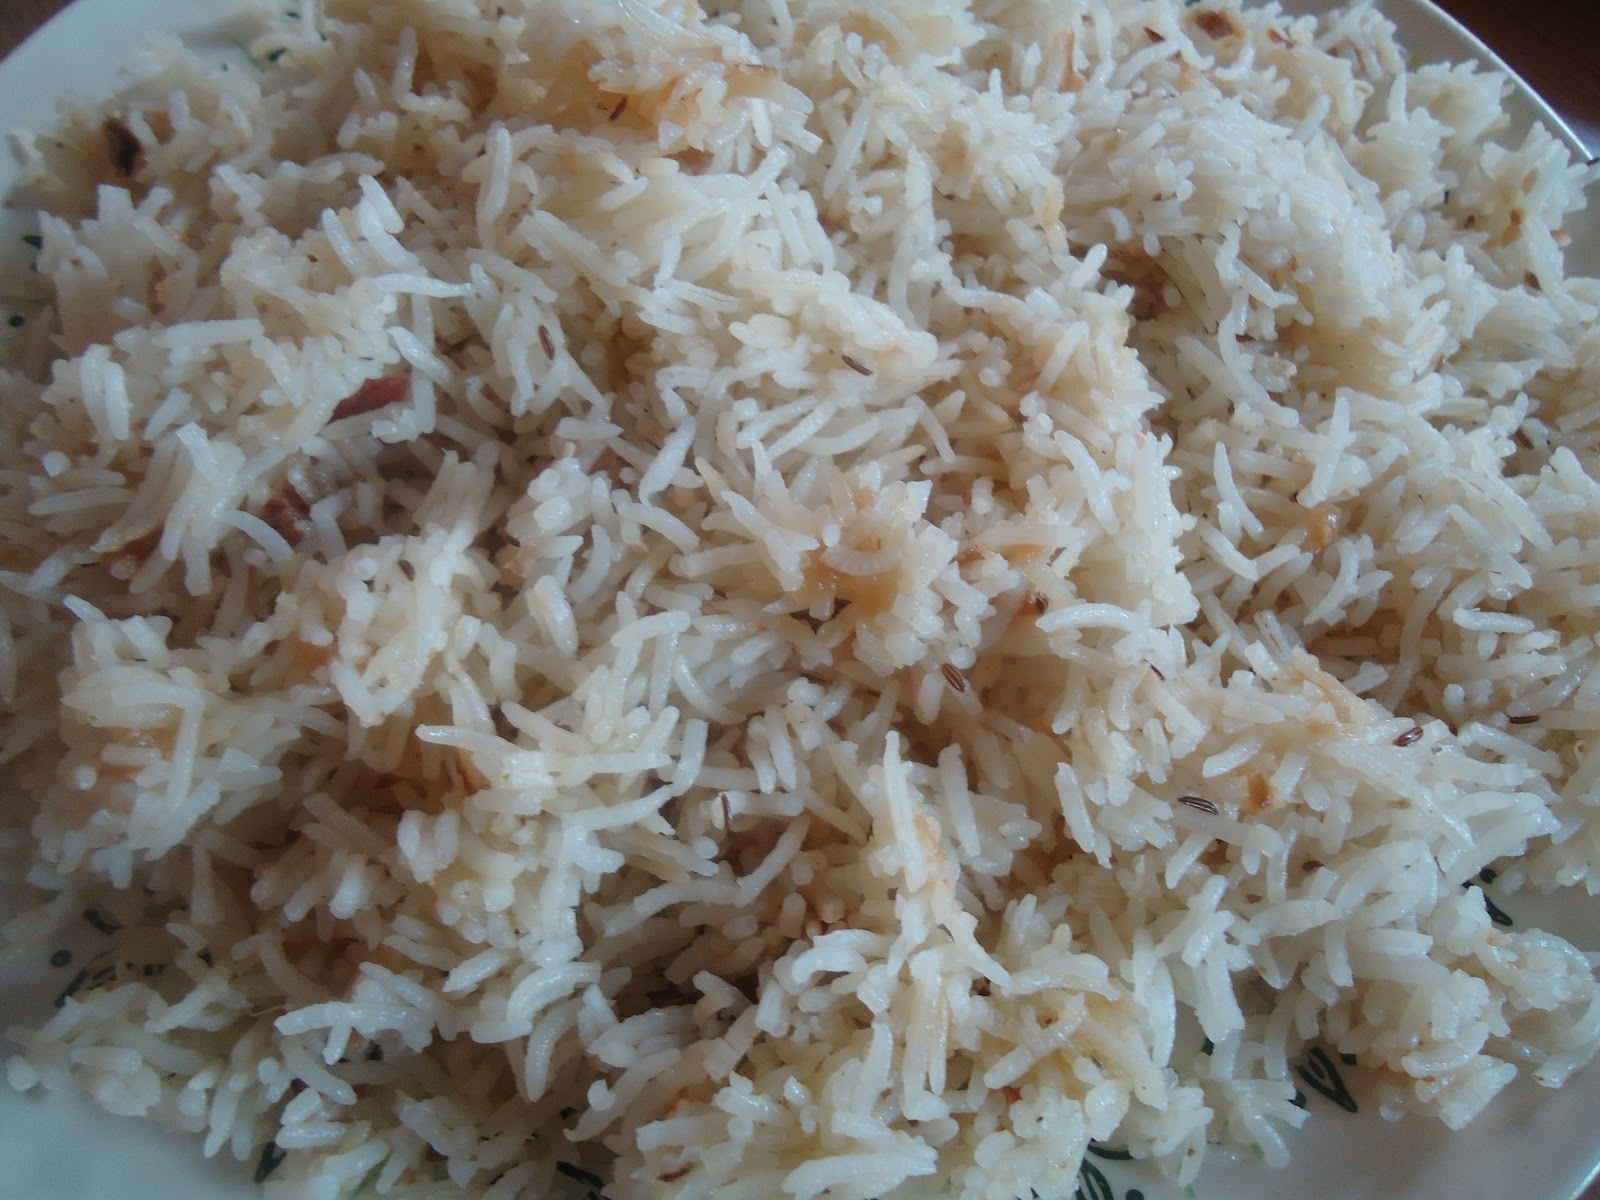plain rice: (112, 153, 1519, 1148)
